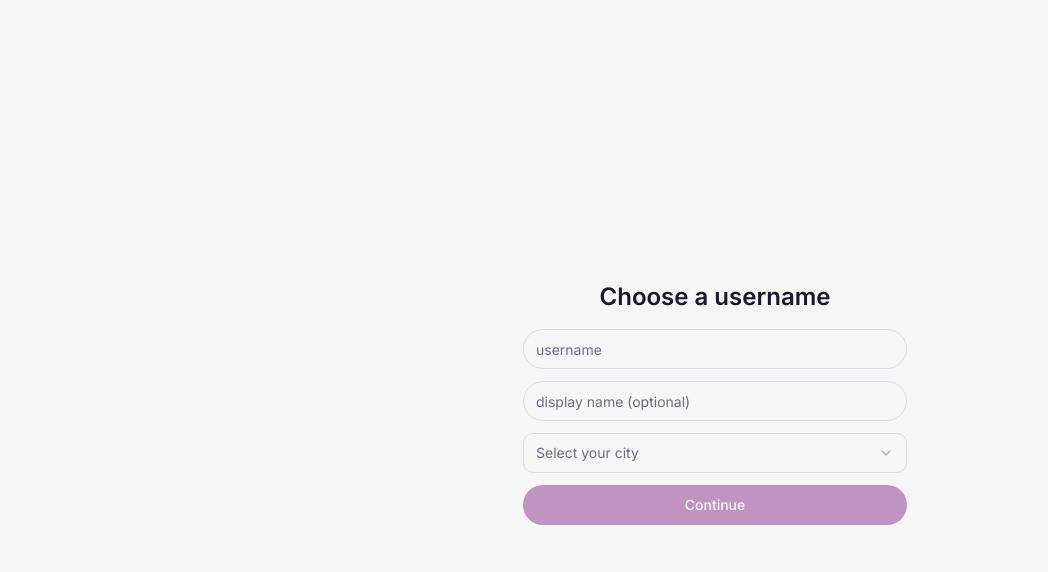
Scenario: app routing › routes an authenticated user without a profile to username setup, then to the shell
Expected: the heading "Choose a username" is shown, [600,281,830,313]
Step 1. Type "renz" into the field with placeholder "username" → [715, 349], box [523,329,907,369]
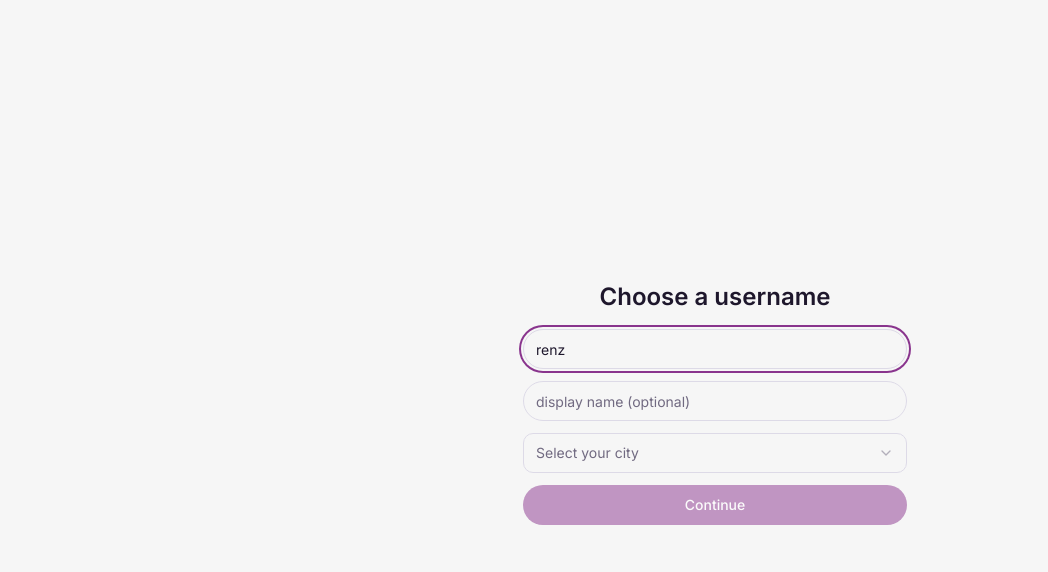
Step 2. Click the dropdown → [587, 452], box [523,433,907,473]
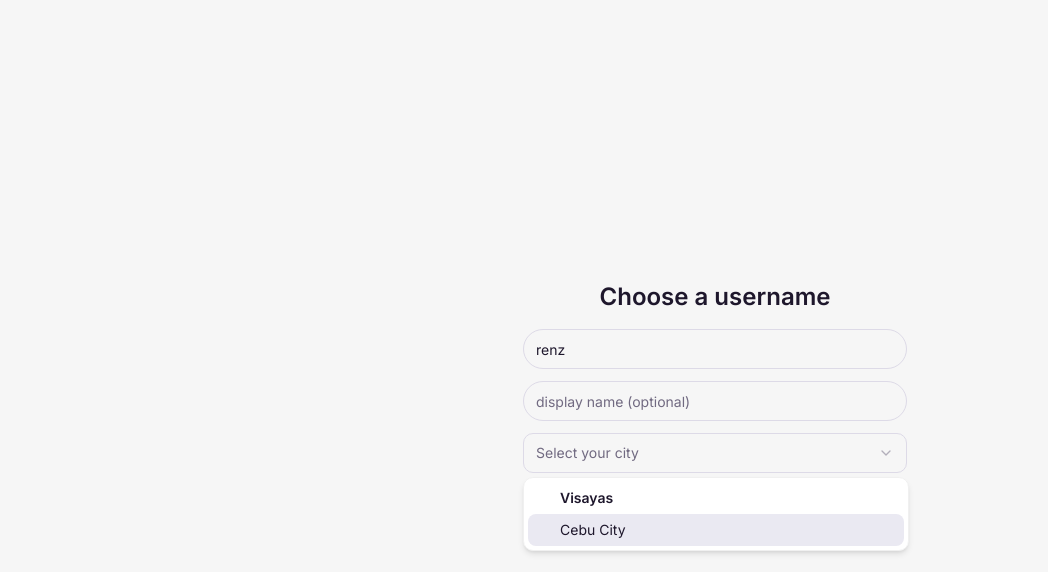
Step 3. Click the option "Cebu City" → [593, 530], box [528,514,904,546]
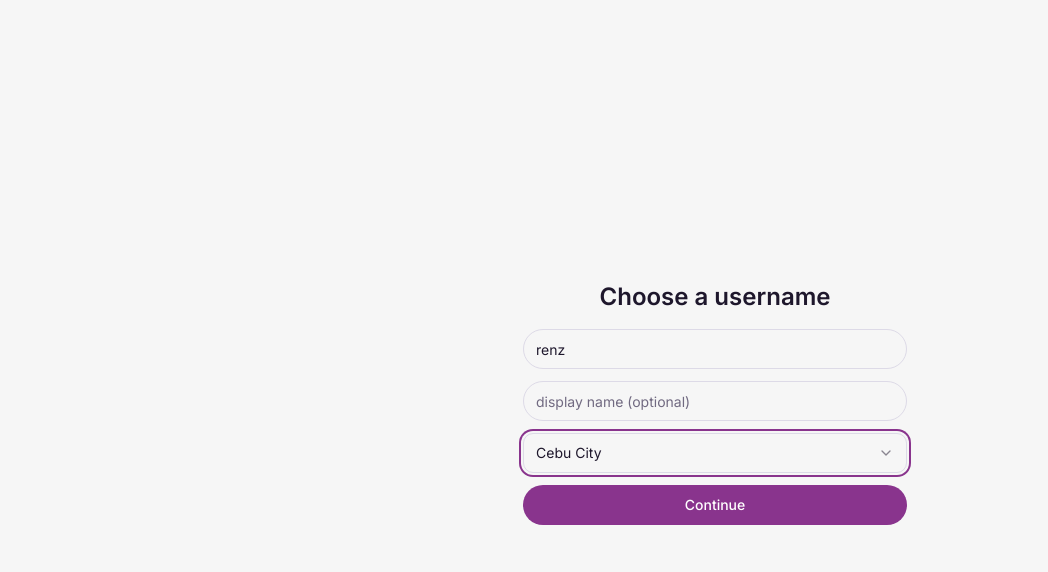
Step 4. Click the button "Continue" → [715, 505], box [523,485,907,525]
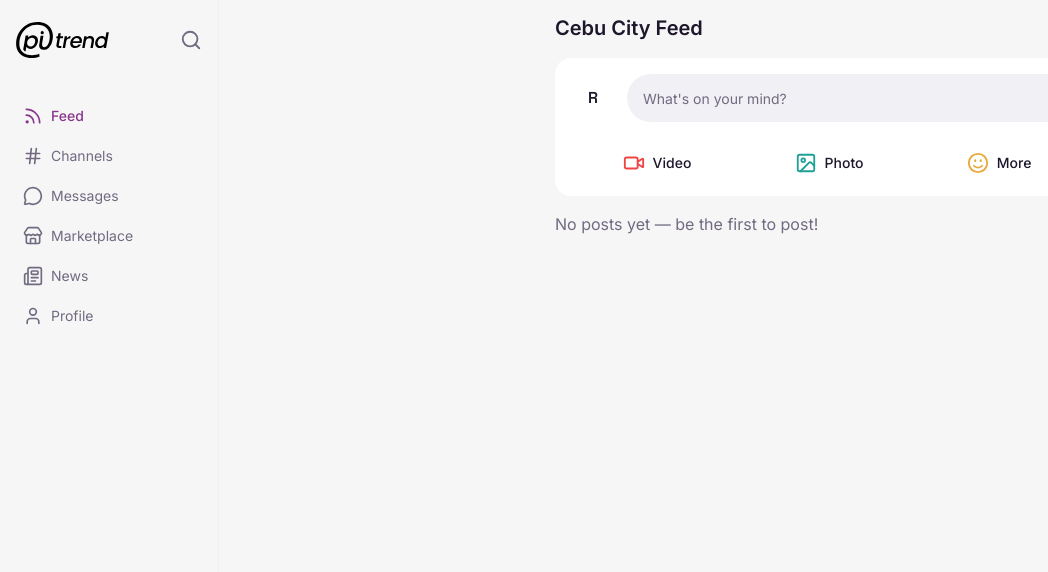
Expected: the heading "Cebu City Feed" is shown, [555,16,703,40]
